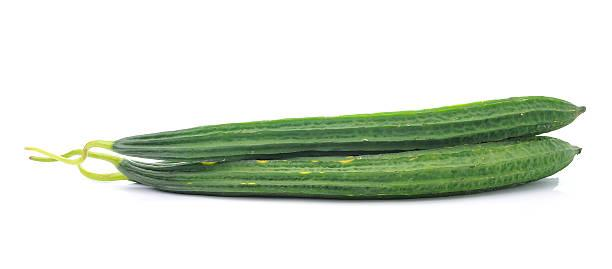sweetcorn: (24, 94, 587, 200)
